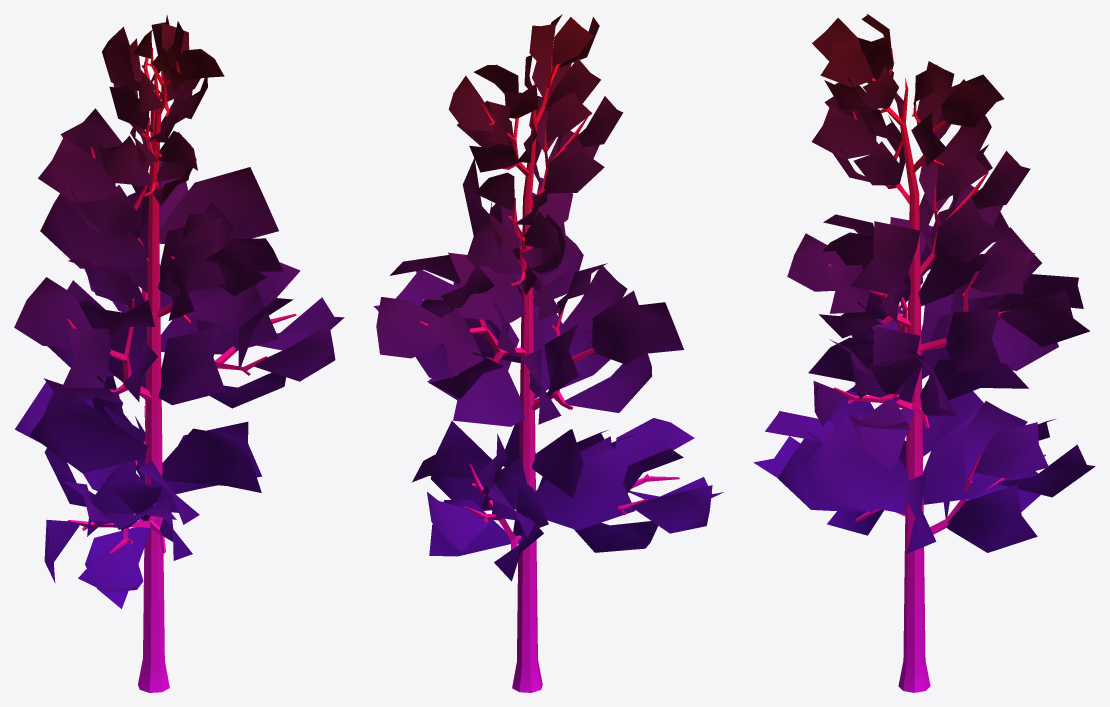
The model's file is synty-tree-birch-dead-01.gltf.
3 views of the same model, side by side, from view 1: azimuth 30°, elevation 25°; view 2: azimuth 150°, elevation 25°; view 3: azimuth 270°, elevation 25° (orthographic). The views are drawn at different scales.
Parts seen in each view (by area): view 1: SM_Tree_Birch_Dead_01; view 2: SM_Tree_Birch_Dead_01; view 3: SM_Tree_Birch_Dead_01.
Part boxes in pixels (bbox=[...]): SM_Tree_Birch_Dead_01: bbox=[14, 15, 344, 692]; SM_Tree_Birch_Dead_01: bbox=[373, 14, 723, 692]; SM_Tree_Birch_Dead_01: bbox=[753, 14, 1095, 692].
Size of the model in its own units: 2.16 by 4.49 by 2.1.
